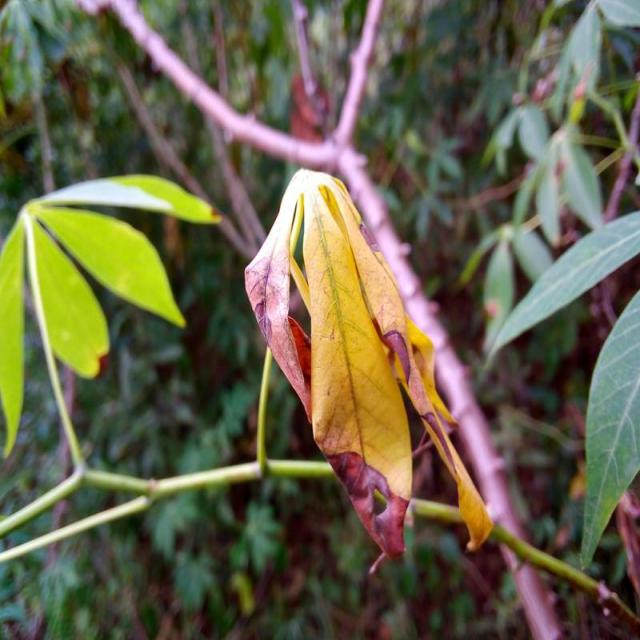cassava leaf: (243, 165, 494, 566), (0, 172, 222, 465), (579, 287, 639, 568)
